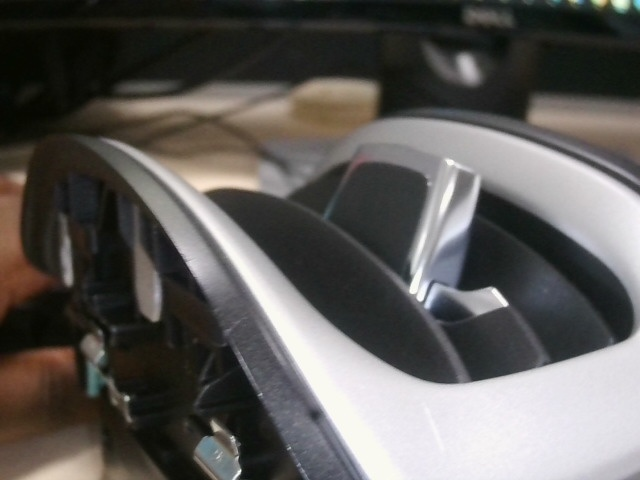NG: (419, 396, 453, 460), (221, 304, 253, 352)
